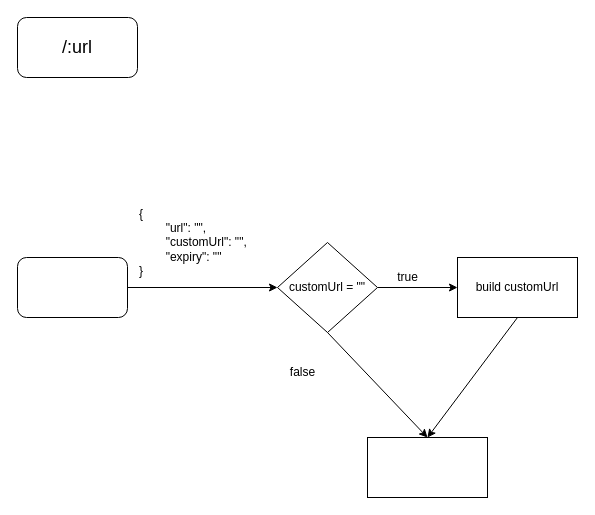
Some shapes in this 595 by 515 pixel diagram are drawn without their labels. Here are the shapes that lost their labels. From the top down, the box of each, then its label:
(16, 256, 128, 318): /shorten
(366, 436, 488, 498): publishToElastic
